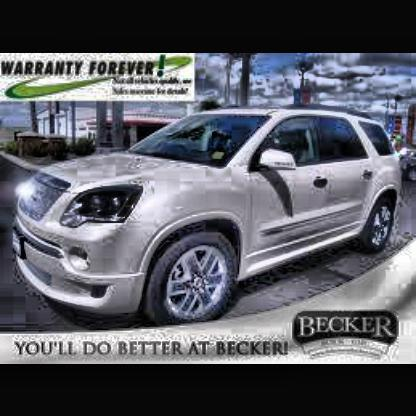GMC Acadia SUV 2012: (12, 101, 407, 321)
